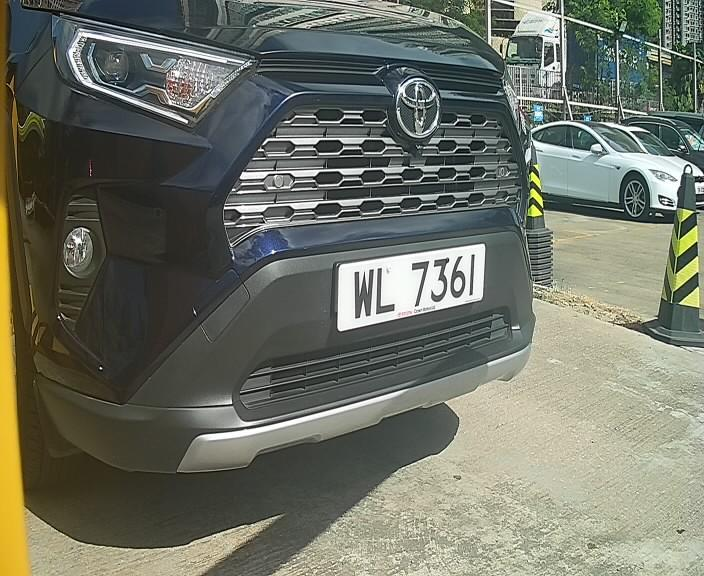Car: (35, 8, 576, 533)
License Plate: (327, 237, 491, 330)
